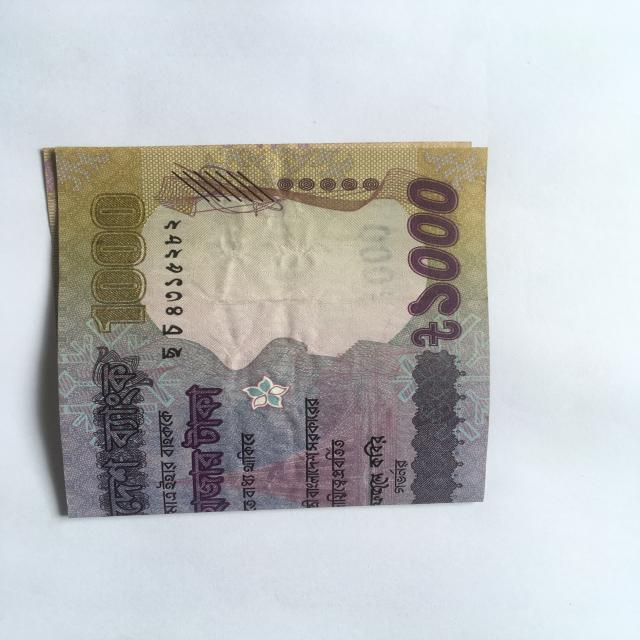Taka: (38, 134, 501, 518)
